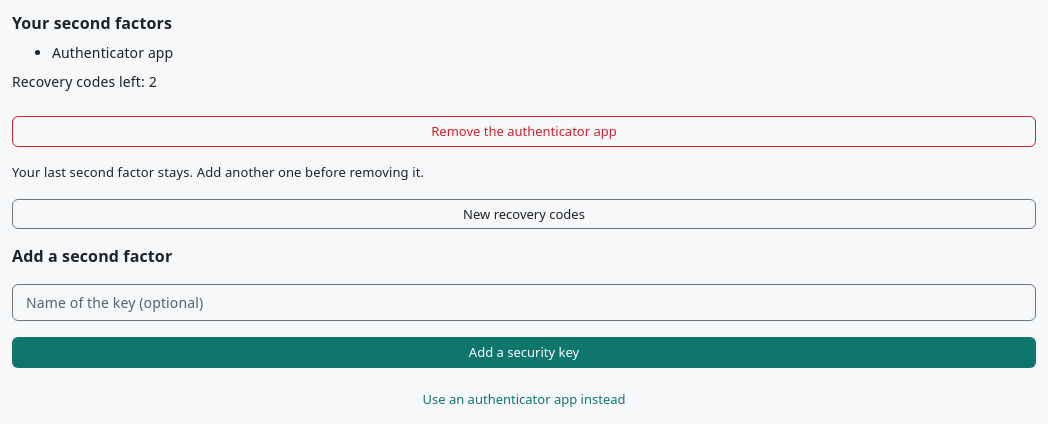
Test: FactorList › shows new recovery codes once
The image size is (1048, 424).
Click the button "New recovery codes".
click(524, 214)  # box x1=12 y1=199 x2=1036 y2=229
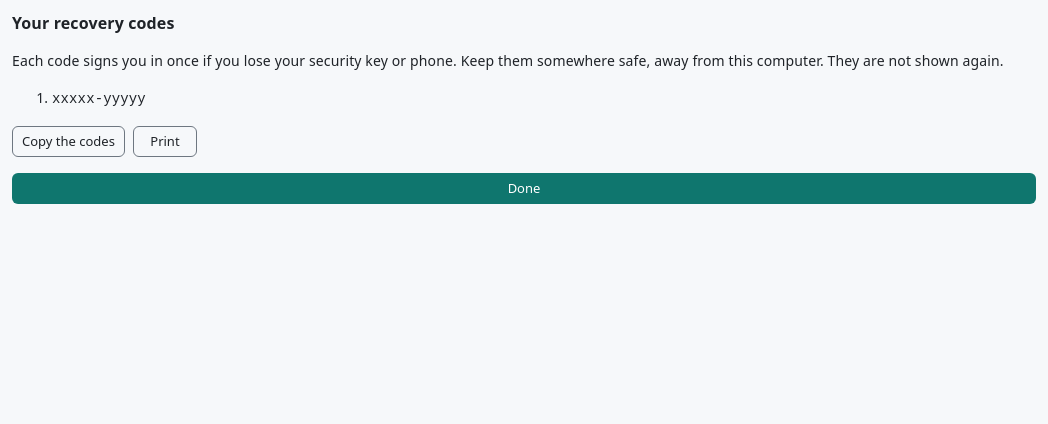
Check: the list named "Recovery codes" reads "xxxxx-yyyyy", box x1=52 y1=91 x2=146 y2=107
